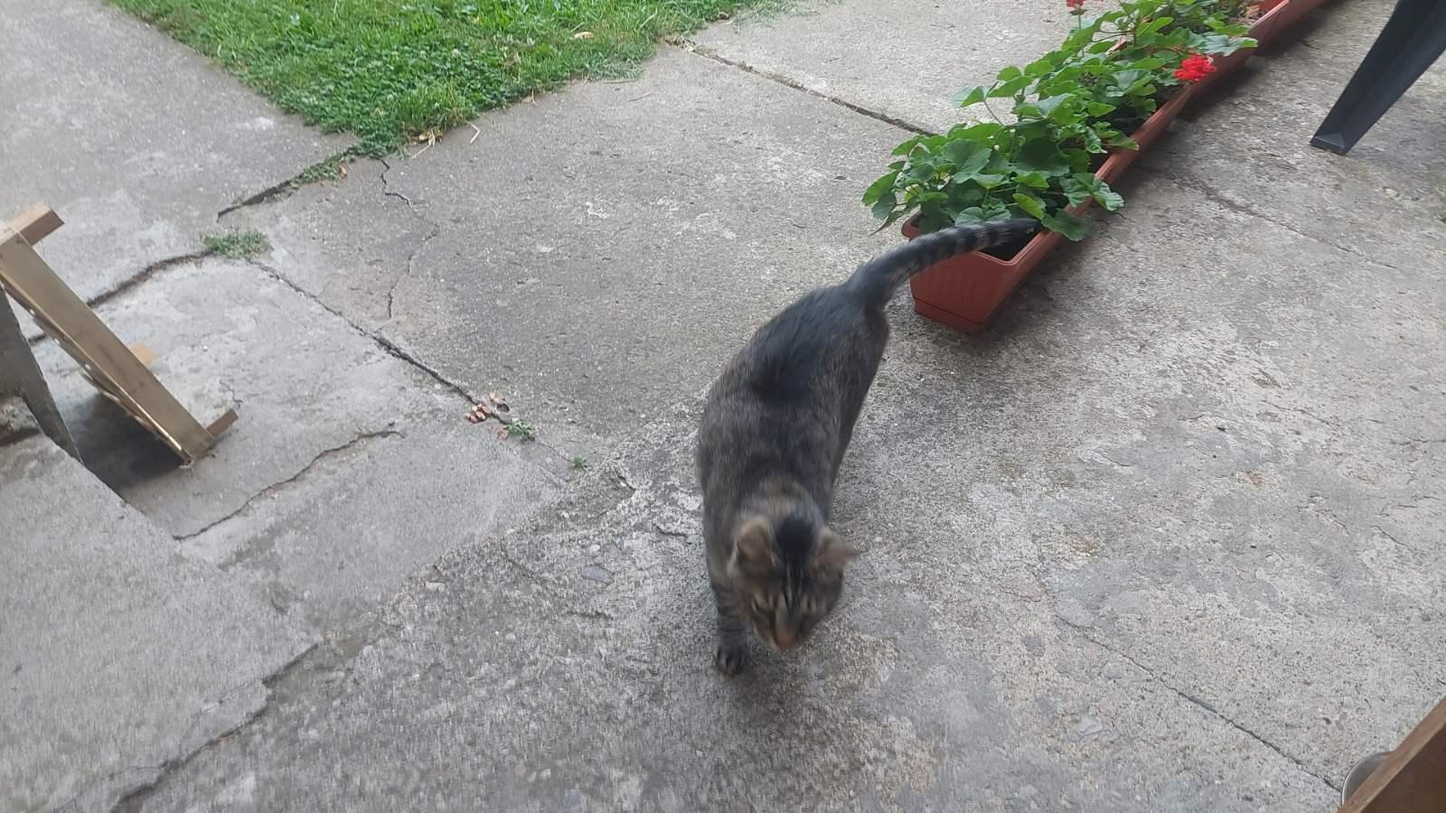macka: (698, 217, 1033, 677)
